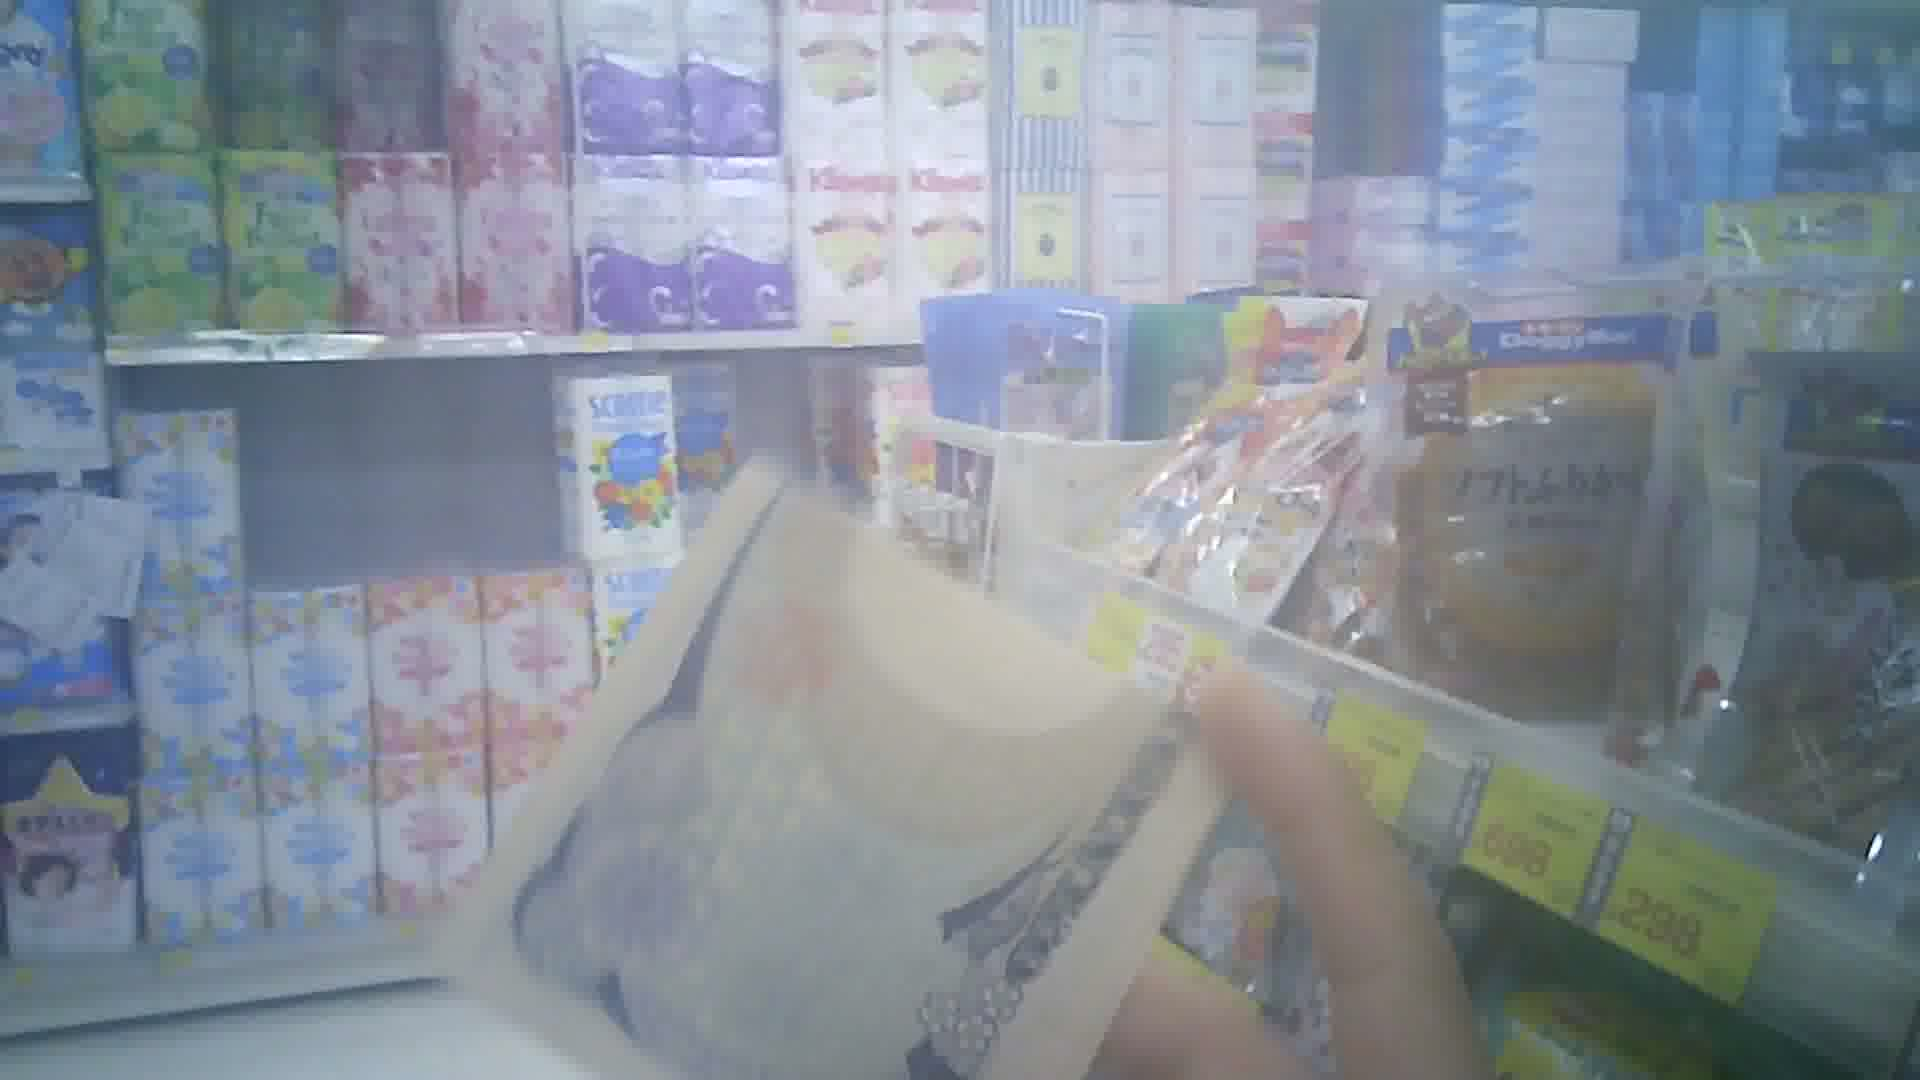1,000 Yen: (460, 451, 1236, 1065)
